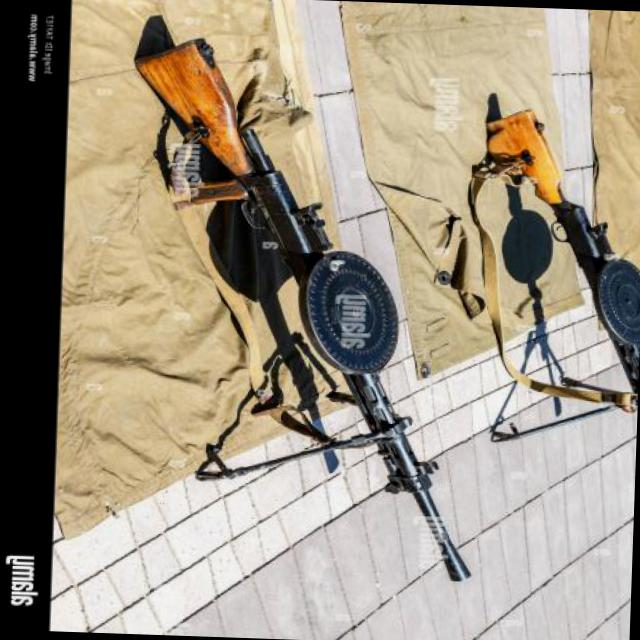long weapon: (142, 44, 472, 598)
